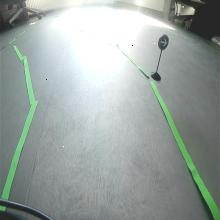right: (158, 34, 169, 49)
